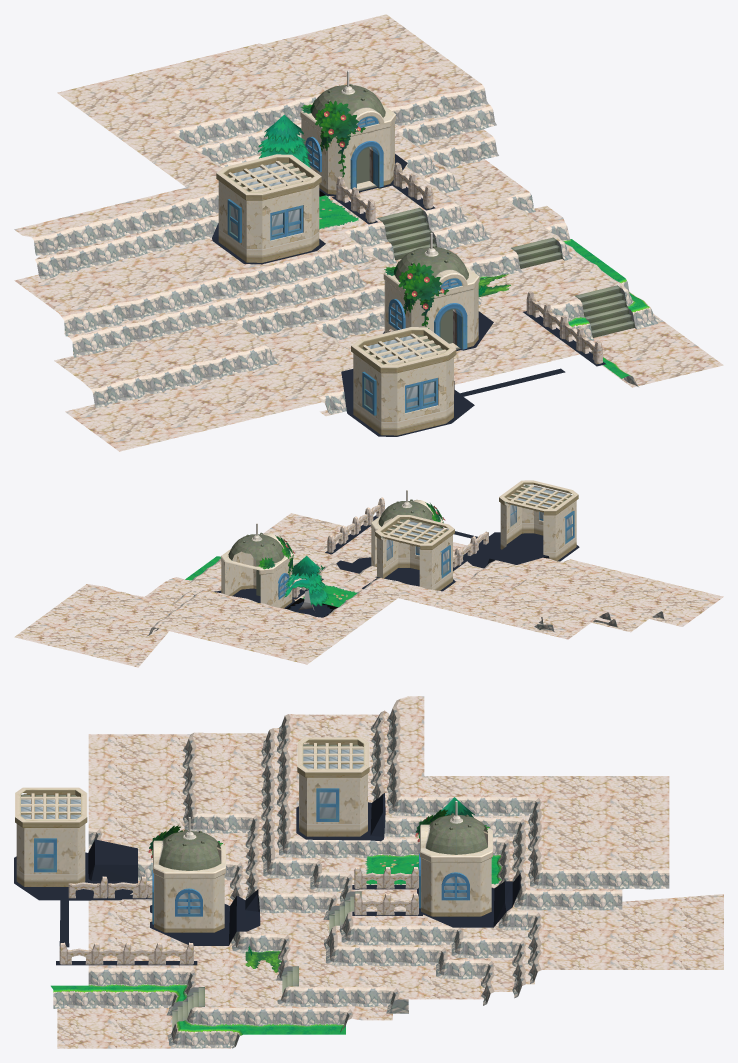
3 views of the same model, one above another, from view 1: azimuth 30°, elevation 25°; view 2: azimuth 150°, elevation 25°; view 3: azimuth 270°, elevation 25° (orthographic). The views are drawn at different scales.
Visible parts, largest first — view 1: vsn_mesh_0_mesh0, vsn_mesh_1_mesh1, vsn_mesh_6_mesh6, vsn_mesh_5_mesh5, vsn_mesh_13_mesh13, vsn_mesh_8_mesh8, vsn_mesh_9_mesh9, vsn_mesh_4_mesh4, vsn_mesh_2_mesh2; view 2: vsn_mesh_0_mesh0, vsn_mesh_6_mesh6, vsn_mesh_5_mesh5, vsn_mesh_13_mesh13, vsn_mesh_9_mesh9, vsn_mesh_4_mesh4, vsn_mesh_1_mesh1, vsn_mesh_2_mesh2, vsn_mesh_8_mesh8; view 3: vsn_mesh_0_mesh0, vsn_mesh_1_mesh1, vsn_mesh_6_mesh6, vsn_mesh_5_mesh5, vsn_mesh_13_mesh13, vsn_mesh_9_mesh9, vsn_mesh_2_mesh2, vsn_mesh_7_mesh7.
Boxes of the visible parts, <box> form: vsn_mesh_0_mesh0: <box>14,14,723,451</box>; vsn_mesh_1_mesh1: <box>32,43,659,414</box>; vsn_mesh_6_mesh6: <box>218,70,479,435</box>; vsn_mesh_5_mesh5: <box>216,85,634,415</box>; vsn_mesh_13_mesh13: <box>212,154,606,436</box>; vsn_mesh_8_mesh8: <box>300,99,448,328</box>; vsn_mesh_9_mesh9: <box>231,118,458,409</box>; vsn_mesh_4_mesh4: <box>258,114,331,219</box>; vsn_mesh_2_mesh2: <box>319,196,645,378</box>; vsn_mesh_0_mesh0: <box>14,513,723,667</box>; vsn_mesh_6_mesh6: <box>220,485,576,608</box>; vsn_mesh_5_mesh5: <box>228,480,578,597</box>; vsn_mesh_13_mesh13: <box>193,515,579,617</box>; vsn_mesh_9_mesh9: <box>279,487,571,595</box>; vsn_mesh_4_mesh4: <box>284,555,347,606</box>; vsn_mesh_1_mesh1: <box>106,543,664,636</box>; vsn_mesh_2_mesh2: <box>185,556,355,607</box>; vsn_mesh_8_mesh8: <box>258,502,445,575</box>; vsn_mesh_0_mesh0: <box>57,696,723,1048</box>; vsn_mesh_1_mesh1: <box>53,699,669,1048</box>; vsn_mesh_6_mesh6: <box>16,743,492,932</box>; vsn_mesh_5_mesh5: <box>15,737,487,1030</box>; vsn_mesh_13_mesh13: <box>14,793,520,965</box>; vsn_mesh_9_mesh9: <box>21,749,466,913</box>; vsn_mesh_2_mesh2: <box>51,857,498,1034</box>; vsn_mesh_7_mesh7: <box>175,872,469,916</box>.
Size of the model in its own units: 756 by 217 by 814.
